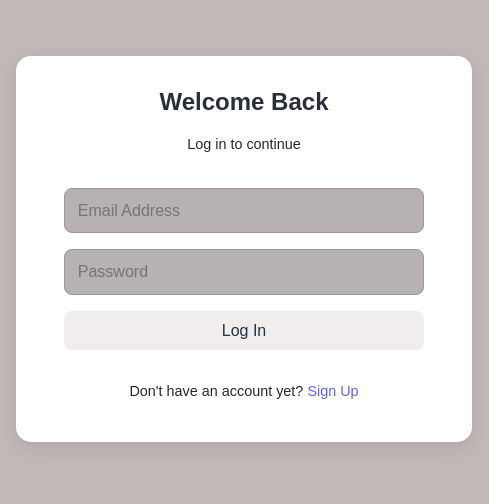
Scenario: Login › shows error message on failed login
The image size is (489, 504).
Type "test@example.com" into the field with placeholder "Email Address".
click(244, 211); type("test@example.com")  # box [64,188,424,233]
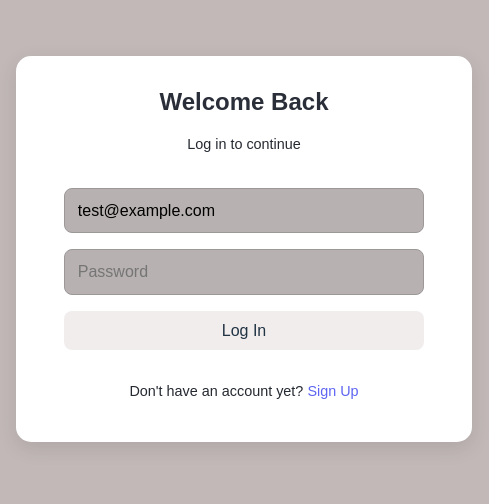
Type "wrongpassword" into the password field with placeholder "Password".
click(244, 272); type("wrongpassword")  # box [64,249,424,295]
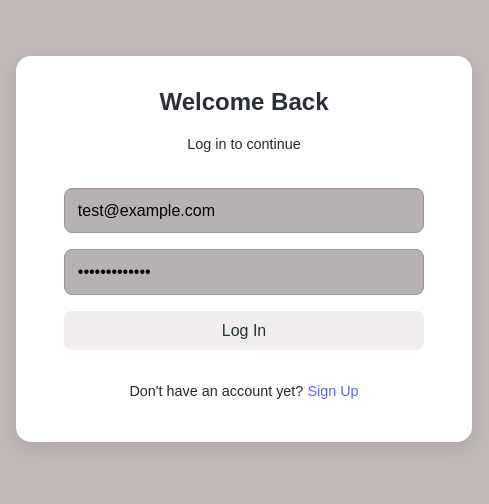
Click the button.
click(244, 331)  # box [64,311,424,350]
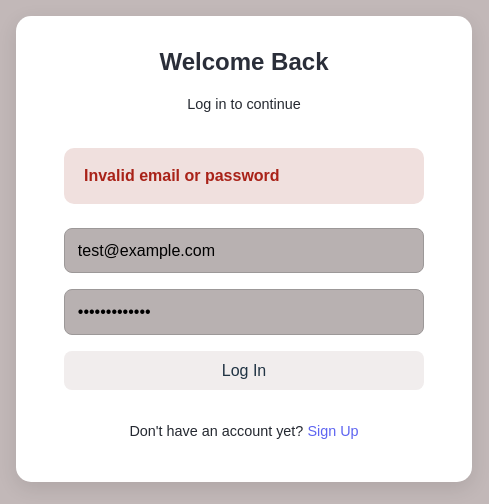
Now the text "Invalid email or password" is shown, box [64,148,424,204]
